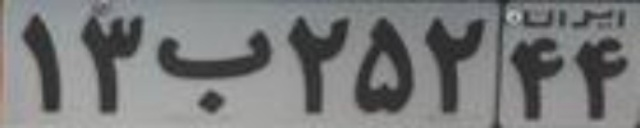1: (20, 13, 60, 111)
2: (423, 15, 488, 115), (286, 15, 349, 114)
3: (78, 15, 143, 113)
4: (573, 36, 629, 118), (511, 36, 565, 118)
5: (355, 16, 415, 113)
be: (156, 29, 271, 115)
